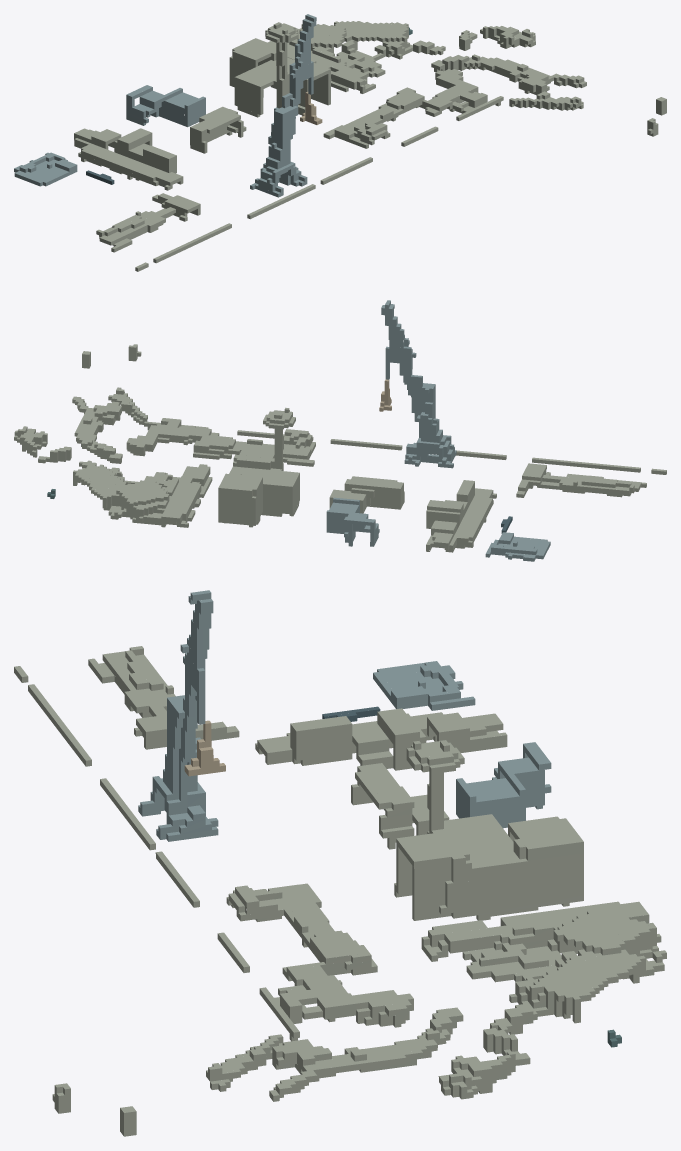
3 renders of one model, top to bottom at view 1: azimuth 30°, elevation 25°; view 2: azimuth 150°, elevation 25°; view 3: azimuth 270°, elevation 25°, orthographic. The views are drawn at different scales.
Visible parts, largest first — view 1: measured-industrial; view 2: measured-industrial; view 3: measured-industrial.
Part boxes in pixels (box(x1,y1,x2,y2)): measured-industrial: box(14, 14, 666, 271); measured-industrial: box(14, 300, 666, 561); measured-industrial: box(14, 590, 666, 1136).
Bounding box in the file's own units: 252 × 68.8 × 150.
